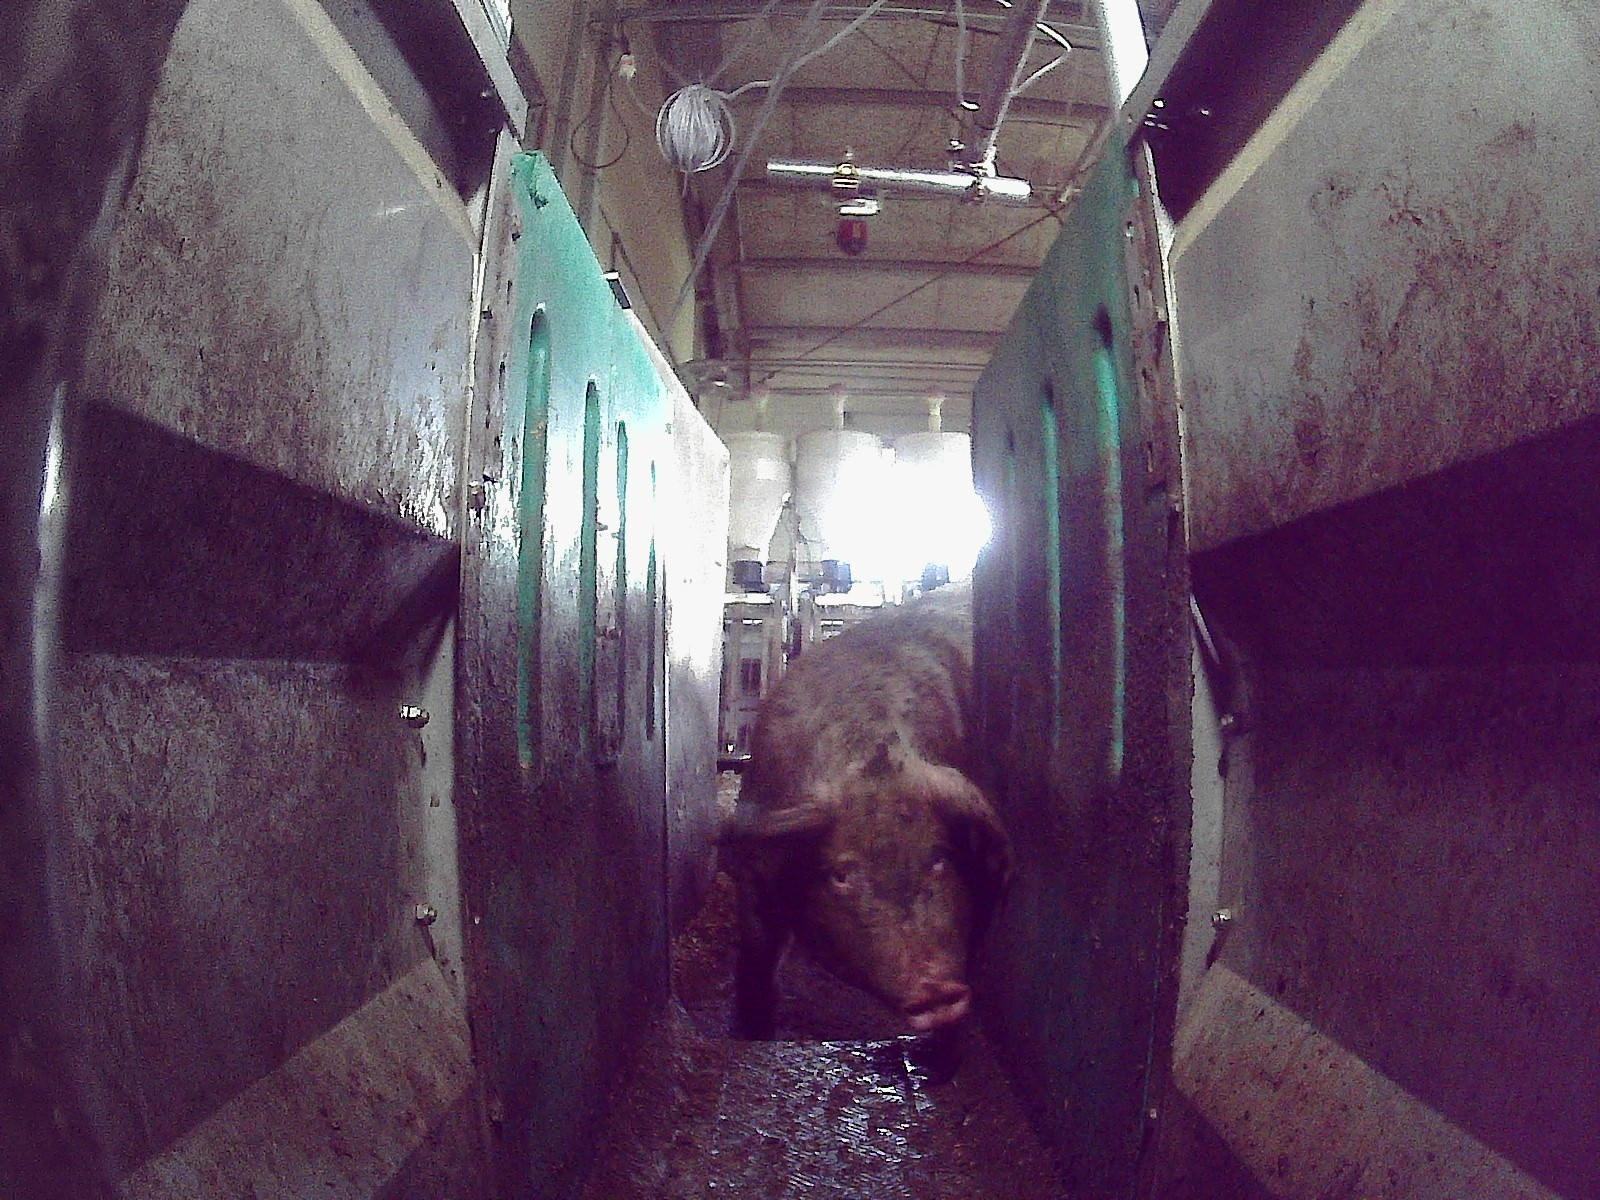Face: (784, 764, 974, 1025)
